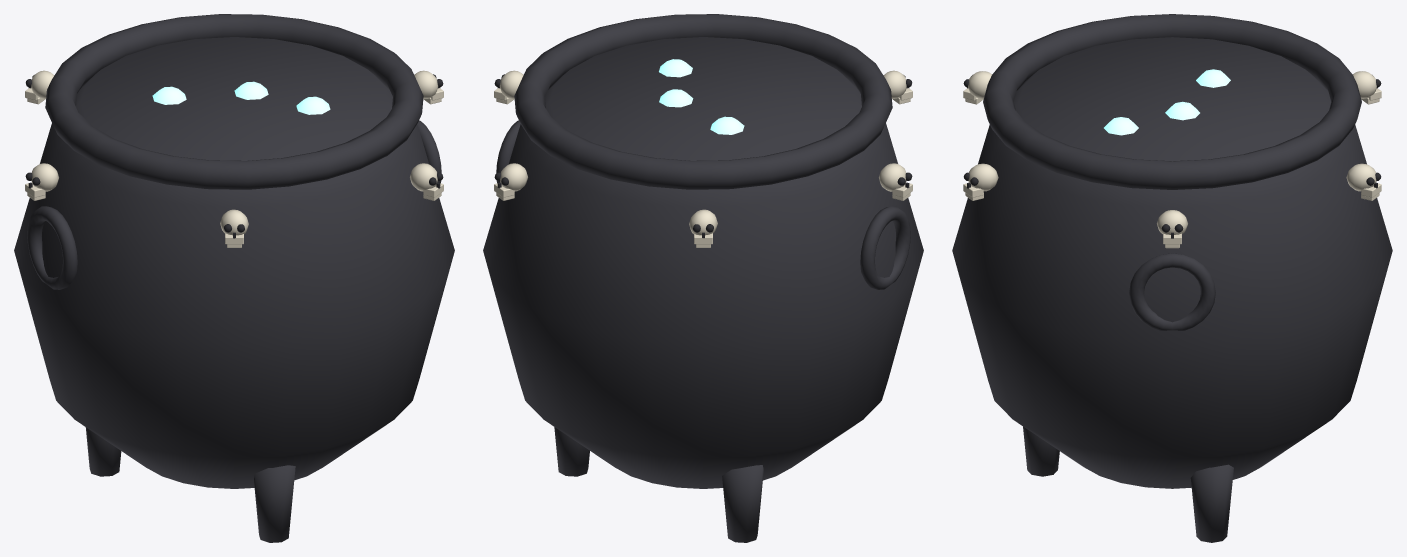
Rendered from cauldron_bone_rim.glb.
3 renders of one model, left to right at view 1: azimuth 30°, elevation 25°; view 2: azimuth 150°, elevation 25°; view 3: azimuth 270°, elevation 25°, orthographic.
Parts seen in each view (by area): view 1: GD_cauldron_bone_rim__m0, GD_cauldron_bone_rim__m2, GD_cauldron_bone_rim__m4, GD_cauldron_bone_rim__m1; view 2: GD_cauldron_bone_rim__m0, GD_cauldron_bone_rim__m2, GD_cauldron_bone_rim__m4, GD_cauldron_bone_rim__m1; view 3: GD_cauldron_bone_rim__m0, GD_cauldron_bone_rim__m2, GD_cauldron_bone_rim__m4.
Part boxes in pixels (bbox=[...]): GD_cauldron_bone_rim__m0: bbox=[14, 14, 454, 542]; GD_cauldron_bone_rim__m2: bbox=[25, 70, 443, 247]; GD_cauldron_bone_rim__m4: bbox=[152, 81, 330, 114]; GD_cauldron_bone_rim__m1: bbox=[25, 74, 443, 238]; GD_cauldron_bone_rim__m0: bbox=[483, 14, 923, 542]; GD_cauldron_bone_rim__m2: bbox=[494, 70, 912, 247]; GD_cauldron_bone_rim__m4: bbox=[659, 59, 744, 134]; GD_cauldron_bone_rim__m1: bbox=[494, 74, 912, 238]; GD_cauldron_bone_rim__m0: bbox=[952, 14, 1392, 542]; GD_cauldron_bone_rim__m2: bbox=[963, 71, 1381, 248]; GD_cauldron_bone_rim__m4: bbox=[1104, 69, 1230, 135].
Size of the model in its own units: 0.878 by 0.8075 by 0.817.
